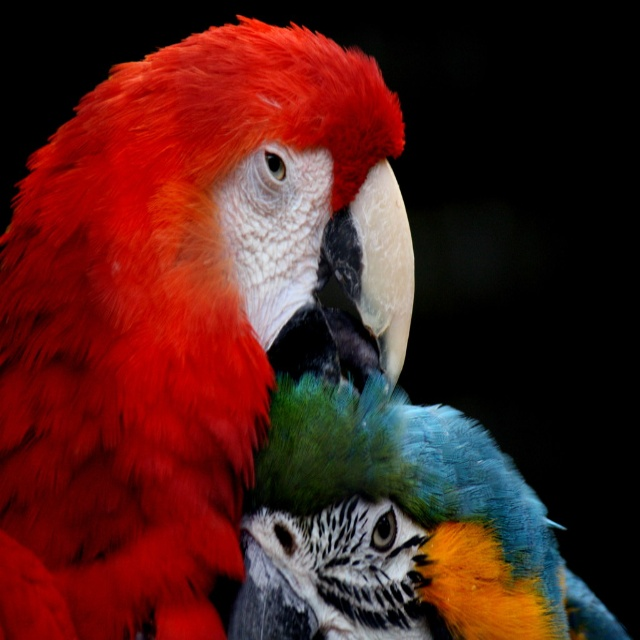Parrot: (0, 11, 415, 639), (243, 367, 634, 639)
